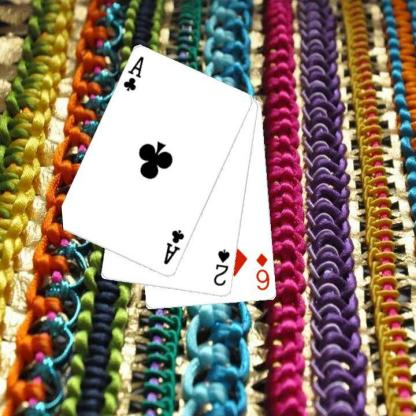2S: (211, 247, 232, 288)
6D: (254, 251, 272, 292)
AC: (120, 54, 146, 93), (161, 227, 186, 266)
